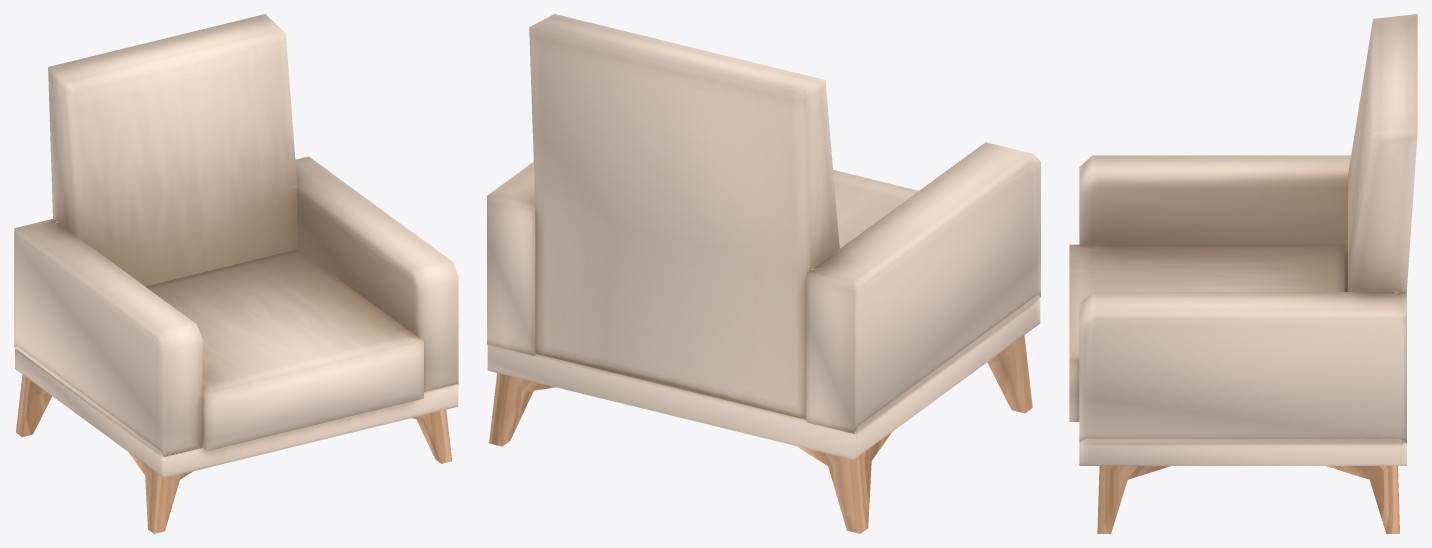
File: sofaSingleWhite.glb
3 views of the same model, side by side, from view 1: azimuth 30°, elevation 25°; view 2: azimuth 150°, elevation 25°; view 3: azimuth 270°, elevation 25° (orthographic). The views are drawn at different scales.
Parts seen in each view (by area): view 1: Object_36; view 2: Object_36; view 3: Object_36.
Part boxes in pixels (box(x1,y1,x2,y2)): Object_36: box(14, 14, 458, 533); Object_36: box(487, 14, 1040, 533); Object_36: box(1069, 14, 1417, 533).
Size of the model in its own units: 3.34 by 3.75 by 3.1.
Materials: 1 (1 with a texture image).
